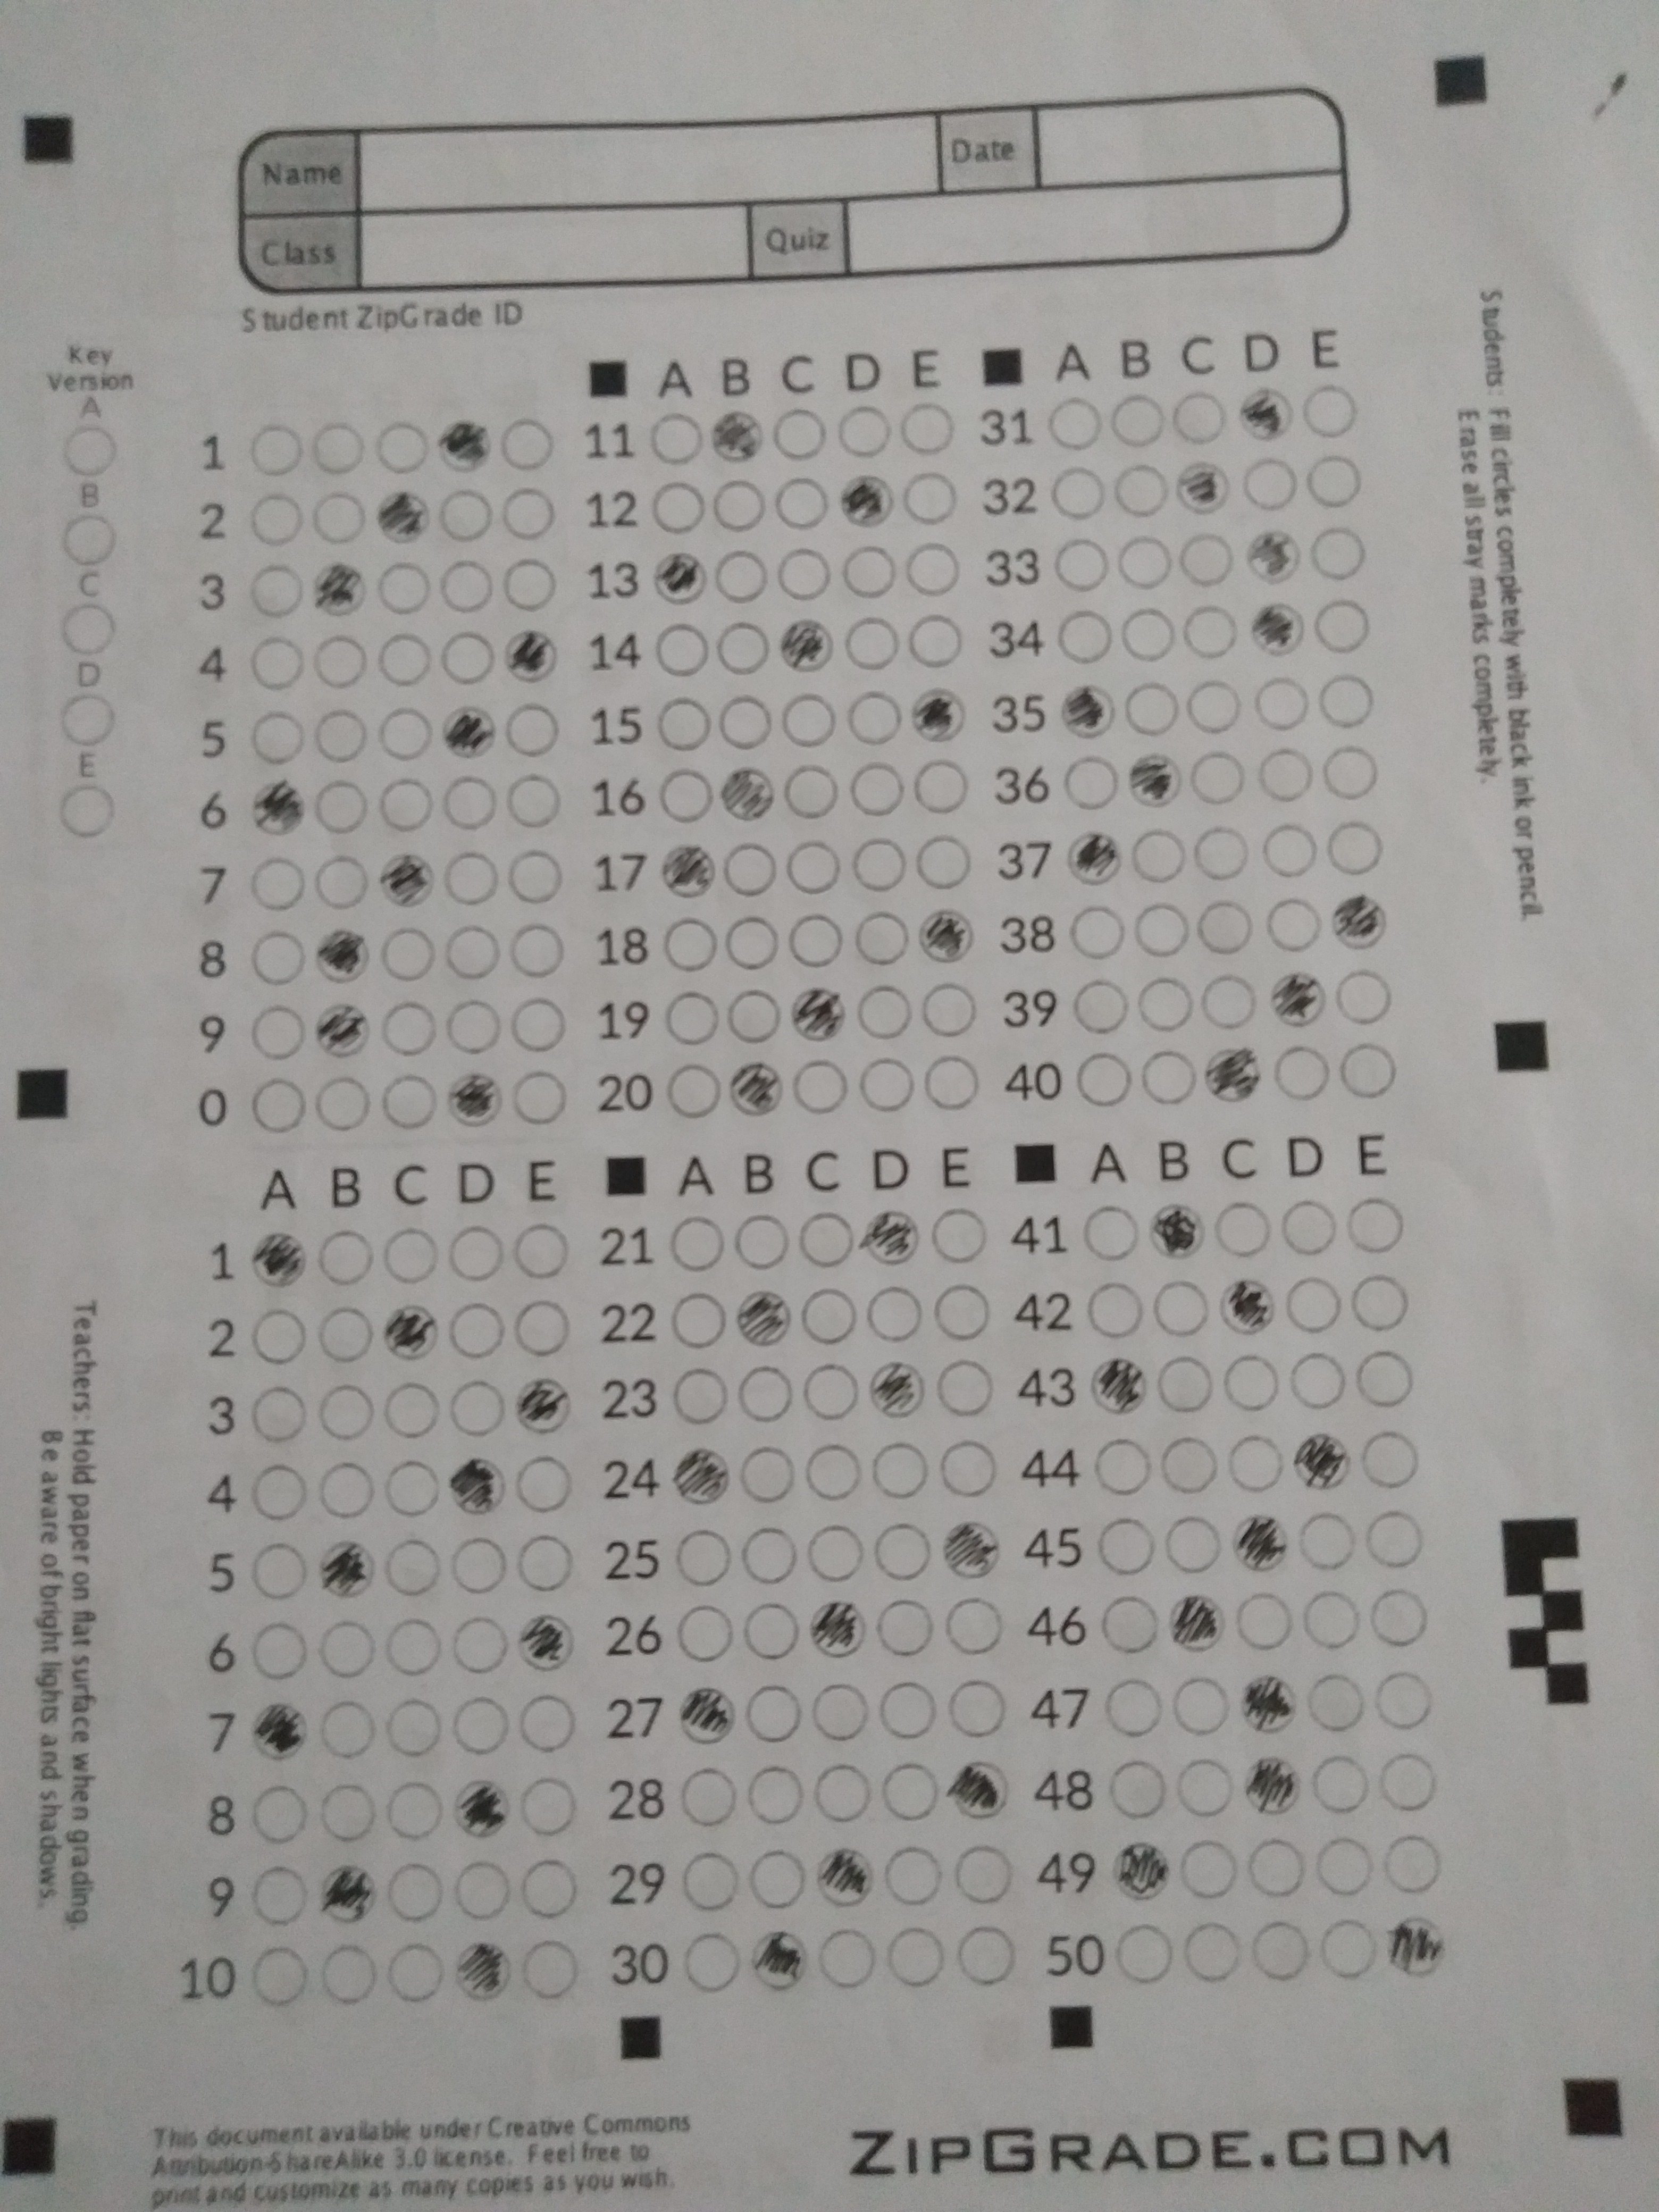not-c: (247, 1946, 312, 2013), (244, 1540, 308, 1608), (446, 1531, 511, 1599), (380, 1538, 444, 1606), (317, 1381, 382, 1449), (444, 1294, 509, 1362), (450, 1693, 514, 1761), (516, 1773, 580, 1841), (516, 1858, 580, 1926), (315, 1940, 380, 2008), (247, 1622, 312, 1688), (382, 1696, 446, 1763), (383, 1616, 448, 1683), (382, 1460, 446, 1526), (315, 1305, 380, 1371), (376, 1226, 441, 1292), (446, 1378, 511, 1444), (514, 1693, 579, 1759), (451, 1858, 516, 1925), (249, 1864, 312, 1932), (315, 1780, 378, 1848), (319, 1698, 382, 1766), (315, 1622, 378, 1689), (446, 1615, 509, 1683), (315, 1458, 378, 1526), (511, 1217, 573, 1285), (383, 1376, 446, 1444), (382, 1937, 444, 2005), (519, 1937, 582, 2005), (249, 1784, 312, 1850), (382, 1778, 444, 1844), (315, 1228, 378, 1294), (443, 1221, 505, 1287), (512, 1294, 575, 1360), (514, 1447, 577, 1514), (514, 1531, 577, 1597), (383, 1862, 446, 1928), (244, 1463, 307, 1526), (247, 1388, 310, 1451), (249, 1306, 312, 1369), (54, 782, 117, 841), (61, 510, 120, 568), (54, 691, 117, 745), (59, 425, 124, 477), (870, 1442, 927, 1498), (713, 479, 770, 535), (59, 603, 118, 657), (899, 401, 955, 456), (948, 1679, 1004, 1735), (878, 1683, 934, 1738), (814, 1684, 870, 1740), (746, 1686, 802, 1742), (882, 1761, 938, 1817), (748, 1766, 803, 1822), (885, 1850, 941, 1905), (807, 1524, 863, 1580), (948, 1597, 1004, 1653), (742, 1604, 798, 1660), (803, 1364, 859, 1420), (739, 1366, 795, 1421), (939, 1439, 995, 1494), (739, 1446, 795, 1501), (798, 1212, 854, 1268), (669, 1216, 725, 1271), (854, 911, 910, 967), (789, 913, 845, 968), (922, 982, 978, 1038), (725, 991, 781, 1047), (911, 761, 967, 817), (847, 761, 903, 817), (782, 766, 838, 822), (659, 768, 714, 824), (850, 836, 906, 892), (723, 845, 779, 900), (775, 549, 831, 604), (845, 617, 901, 672), (714, 624, 770, 679), (653, 620, 709, 676), (843, 690, 899, 745), (770, 404, 826, 460), (772, 475, 828, 531), (650, 477, 706, 533), (836, 402, 892, 458), (1117, 535, 1173, 590), (1115, 462, 1171, 517), (1303, 383, 1359, 439), (1171, 390, 1227, 446), (1255, 676, 1310, 732), (1185, 681, 1241, 737), (1126, 681, 1182, 737), (1054, 611, 1110, 667), (1309, 524, 1364, 580), (1136, 977, 1192, 1033), (1265, 897, 1321, 953), (1136, 900, 1192, 956), (1070, 904, 1126, 960), (1216, 1198, 1272, 1254), (1075, 1052, 1131, 1108), (1335, 970, 1391, 1026), (1201, 975, 1256, 1031), (1298, 1514, 1354, 1569), (1361, 1433, 1417, 1489), (1356, 1348, 1412, 1404), (1155, 1357, 1211, 1413), (1352, 1275, 1408, 1331), (1155, 1282, 1211, 1338), (1283, 1200, 1338, 1256), (1237, 1595, 1293, 1651), (1385, 1836, 1441, 1892), (1380, 1756, 1436, 1811), (1175, 1759, 1230, 1815), (1112, 1761, 1168, 1817), (1182, 1925, 1237, 1980), (681, 1855, 739, 1909), (857, 1059, 915, 1113), (669, 1294, 727, 1348), (1046, 399, 1103, 453), (1115, 1925, 1173, 1979), (816, 1766, 871, 1820), (680, 1770, 735, 1824), (958, 1848, 1014, 1902), (751, 1851, 807, 1905), (875, 1524, 931, 1578), (742, 1529, 798, 1583), (676, 1529, 732, 1583), (878, 1599, 934, 1653), (680, 1606, 735, 1660), (938, 1362, 993, 1416), (671, 1369, 727, 1423), (807, 1446, 863, 1500), (924, 1055, 979, 1109), (793, 1061, 849, 1115), (666, 1062, 721, 1116), (932, 1209, 988, 1263), (732, 1214, 788, 1268), (934, 1285, 990, 1339), (868, 1289, 924, 1343), (800, 1289, 856, 1343), (727, 918, 782, 972), (662, 918, 718, 972), (859, 986, 915, 1040), (667, 991, 723, 1045), (720, 695, 775, 749), (657, 697, 713, 751), (917, 836, 972, 890), (786, 841, 842, 895), (716, 549, 772, 603), (908, 617, 964, 671), (777, 697, 833, 751), (650, 411, 706, 465), (908, 538, 964, 592), (903, 470, 958, 524), (840, 545, 896, 599), (1375, 1672, 1431, 1726), (1054, 538, 1110, 592), (1051, 467, 1107, 521), (1243, 456, 1298, 510), (1303, 455, 1359, 509), (1108, 394, 1164, 448), (1324, 747, 1380, 801), (1260, 749, 1316, 803), (1190, 752, 1246, 806), (1061, 756, 1117, 810), (1319, 672, 1375, 726), (1314, 601, 1370, 655), (1183, 606, 1239, 660), (1119, 610, 1175, 664), (1180, 533, 1236, 587), (1070, 979, 1126, 1033), (1195, 900, 1251, 954), (1330, 822, 1385, 876), (1262, 824, 1317, 878), (1195, 824, 1251, 878), (1129, 829, 1185, 883), (1080, 1209, 1136, 1263), (1338, 1043, 1394, 1097), (1272, 1047, 1328, 1101), (1138, 1050, 1194, 1104), (1366, 1512, 1422, 1566), (1166, 1519, 1222, 1573), (1098, 1519, 1154, 1573), (1229, 1435, 1284, 1489), (1162, 1439, 1218, 1493), (1094, 1440, 1150, 1494), (1293, 1353, 1349, 1407), (1223, 1355, 1279, 1409), (1284, 1278, 1340, 1332), (1086, 1284, 1141, 1338), (1345, 1198, 1401, 1252), (1305, 1674, 1361, 1728), (1171, 1677, 1227, 1731), (1107, 1681, 1162, 1735), (1370, 1590, 1425, 1644), (1303, 1594, 1359, 1648), (1101, 1599, 1157, 1653), (1180, 1843, 1236, 1897), (1246, 1839, 1302, 1893), (1316, 1839, 1371, 1893), (1314, 1757, 1370, 1811), (1319, 1923, 1375, 1977), (1255, 1926, 1310, 1980), (511, 923, 565, 975), (383, 1076, 437, 1127), (317, 1082, 371, 1132), (382, 1003, 436, 1054), (889, 1932, 943, 1982), (685, 1937, 739, 1987), (253, 1007, 305, 1057), (512, 1073, 565, 1123), (253, 1082, 305, 1132), (512, 1001, 565, 1052), (448, 1001, 500, 1052), (962, 1930, 1014, 1980), (821, 1933, 873, 1984), (380, 782, 432, 831), (253, 712, 305, 761), (317, 857, 368, 906), (376, 563, 429, 610), (441, 491, 493, 538), (312, 495, 364, 542), (502, 418, 554, 465), (314, 427, 366, 474), (380, 711, 432, 758), (441, 632, 493, 679), (378, 634, 430, 681), (314, 637, 366, 685), (251, 641, 303, 688), (504, 561, 556, 608), (446, 930, 498, 977), (251, 934, 303, 981), (511, 853, 563, 900), (444, 855, 497, 902), (249, 428, 300, 475), (441, 563, 491, 610), (253, 564, 303, 611), (502, 488, 552, 535), (251, 496, 301, 543), (378, 423, 429, 470), (317, 784, 368, 831), (507, 705, 558, 752), (314, 712, 364, 759), (382, 932, 432, 979), (253, 862, 303, 909), (507, 779, 558, 826), (446, 779, 497, 826)
taken-c: (1385, 1912, 1448, 1984), (746, 1928, 812, 1994), (376, 1299, 444, 1364), (721, 1057, 789, 1120), (1291, 1432, 1356, 1496), (1229, 1512, 1293, 1576), (1143, 1198, 1209, 1261), (1243, 1754, 1305, 1820), (655, 840, 720, 902), (1112, 1841, 1175, 1905), (946, 1759, 1011, 1822), (317, 1858, 378, 1925), (444, 1456, 507, 1519), (450, 1940, 512, 2003), (450, 1778, 514, 1839), (1084, 1359, 1152, 1416), (1330, 892, 1391, 954), (1236, 385, 1297, 448), (861, 1205, 922, 1268), (1063, 829, 1127, 888), (866, 1360, 931, 1420), (246, 1702, 310, 1761), (833, 470, 899, 528), (500, 627, 561, 688), (1267, 968, 1328, 1029), (1166, 1594, 1227, 1655), (1237, 1672, 1298, 1733), (676, 1684, 737, 1745), (734, 1289, 795, 1350), (917, 907, 979, 967), (1124, 749, 1183, 812), (312, 1540, 375, 1599), (514, 1613, 577, 1672), (441, 700, 500, 761), (908, 686, 969, 745), (789, 984, 849, 1045), (1202, 1045, 1262, 1106), (1249, 603, 1310, 662), (247, 1228, 308, 1287), (312, 1001, 375, 1059), (1173, 456, 1236, 514), (816, 1846, 873, 1909), (807, 1599, 870, 1656), (941, 1521, 1004, 1578), (650, 547, 709, 606), (718, 765, 777, 824), (1243, 528, 1302, 587), (375, 489, 436, 547), (376, 850, 437, 907), (444, 1071, 505, 1129), (1058, 681, 1115, 742), (671, 1447, 732, 1505), (512, 1376, 575, 1432), (247, 779, 307, 836), (312, 559, 368, 620), (775, 617, 836, 672), (1216, 1278, 1277, 1334), (312, 928, 371, 984), (437, 420, 498, 474), (709, 409, 765, 463)
